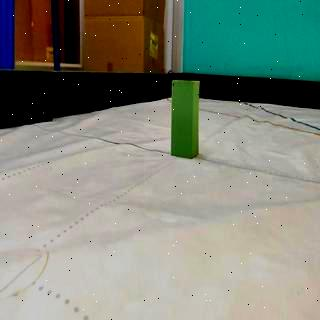greenbox: (172, 78, 200, 158)
